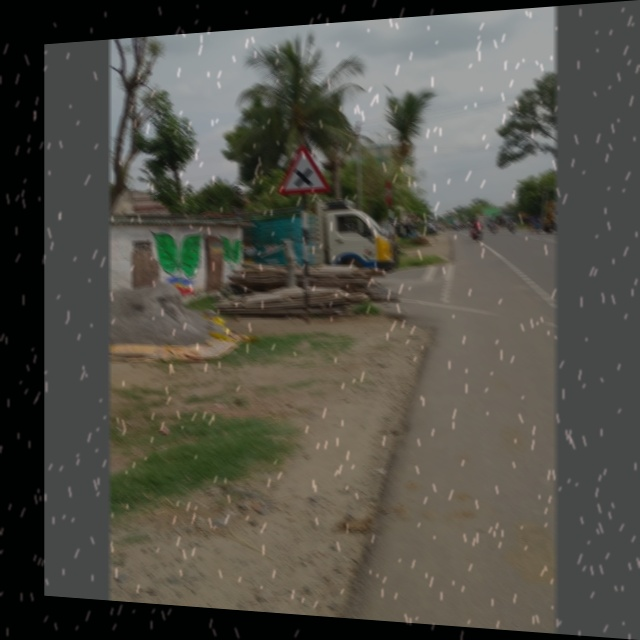Cross_Road: (275, 140, 332, 196)
